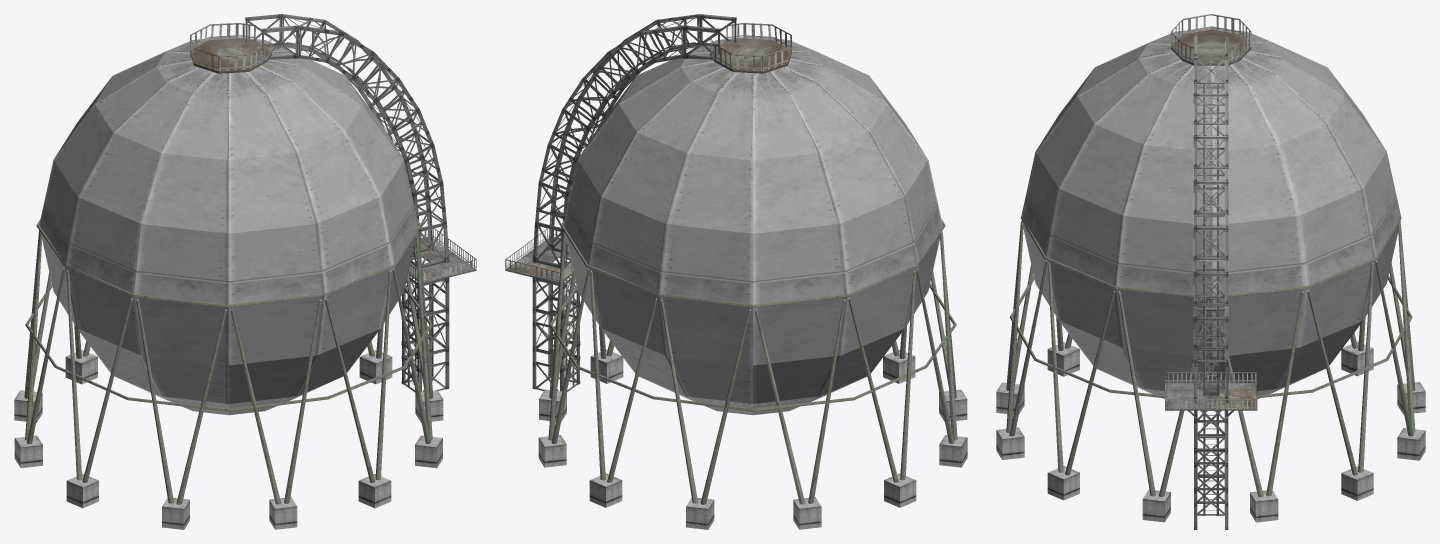
File: GasStorage01.fbx
3 renders of one model, left to right at view 1: azimuth 30°, elevation 25°; view 2: azimuth 150°, elevation 25°; view 3: azimuth 270°, elevation 25°, orthographic.
Visible parts, largest first — view 1: GasStorage01.Sphere, GasStorage01.Support, GasStorage01.SupportArch, GasStorage01.Rings, GasStorage01.Plattform02, GasStorage01.SupportBtm, GasStorage01.Plattform01; view 2: GasStorage01.Sphere, GasStorage01.Support, GasStorage01.SupportArch, GasStorage01.Rings, GasStorage01.Plattform02, GasStorage01.SupportBtm, GasStorage01.Plattform01; view 3: GasStorage01.Sphere, GasStorage01.Support, GasStorage01.SupportArch, GasStorage01.Plattform01, GasStorage01.Rings, GasStorage01.Plattform02, GasStorage01.SupportBtm, GasStorage01.LadderArch, GasStorage01.Ladder.
Part boxes in pixels (x1,y1,x2,y2): GasStorage01.Sphere: (39,36,418,415); GasStorage01.Support: (14,230,443,529); GasStorage01.SupportArch: (245,14,449,268); GasStorage01.Rings: (25,219,432,411); GasStorage01.Plattform02: (190,23,271,73); GasStorage01.SupportBtm: (401,275,449,392); GasStorage01.Plattform01: (408,226,476,283); GasStorage01.Sphere: (563,36,942,415); GasStorage01.Support: (538,231,967,529); GasStorage01.SupportArch: (532,14,736,268); GasStorage01.Rings: (549,219,956,411); GasStorage01.Plattform02: (710,23,791,73); GasStorage01.SupportBtm: (532,276,580,391); GasStorage01.Plattform01: (505,226,572,283); GasStorage01.Sphere: (1021,27,1400,399); GasStorage01.Support: (996,221,1425,522); GasStorage01.SupportArch: (1193,33,1228,403); GasStorage01.Plattform01: (1165,372,1257,416); GasStorage01.Rings: (1010,217,1412,398); GasStorage01.Plattform02: (1171,14,1251,65); GasStorage01.SupportBtm: (1194,390,1228,529); GasStorage01.LadderArch: (1203,84,1218,385); GasStorage01.Ladder: (1203,385,1218,515).
Size of the model in its own units: 4119 by 3928 by 3726.
